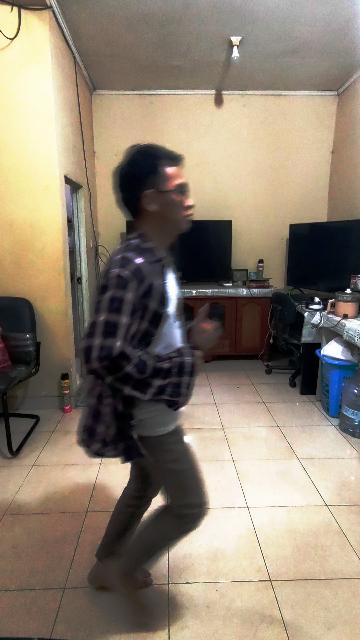berlari: (76, 143, 210, 632)
